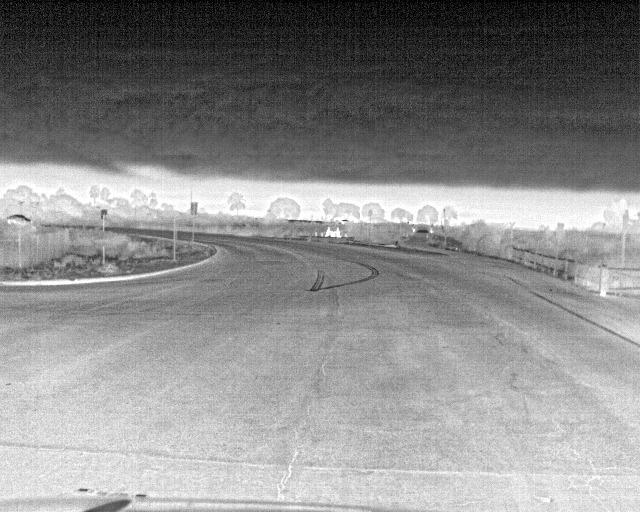car: (4, 211, 34, 226)
